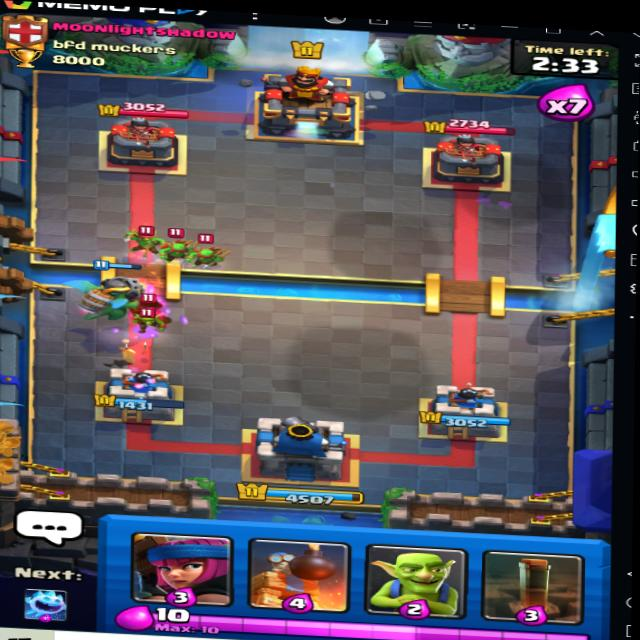Goblin: (128, 307, 173, 332)
Speargoblin: (163, 227, 195, 261), (130, 224, 164, 254), (194, 239, 225, 269)
